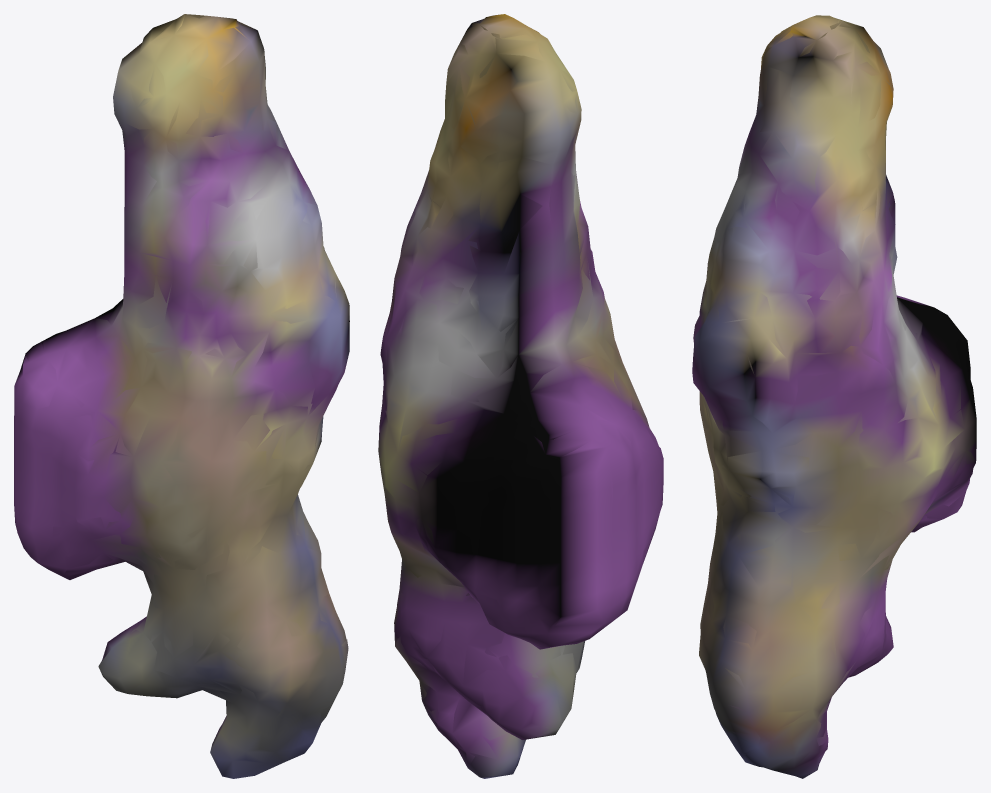
Rendered from yuri_engineer.glb.
The picture shows the model from 3 angles, left to right: view 1: azimuth 30°, elevation 25°; view 2: azimuth 150°, elevation 25°; view 3: azimuth 270°, elevation 25°; orthographic projection. The views are drawn at different scales.
Parts seen in each view (by area): view 1: yuri_engineer; view 2: yuri_engineer; view 3: yuri_engineer.
Part boxes in pixels (left/top/right/bottom): yuri_engineer: left=14, top=14, right=349, bottom=778; yuri_engineer: left=378, top=14, right=663, bottom=778; yuri_engineer: left=692, top=15, right=976, bottom=778.
Size of the model in its own units: 0.8274 by 2.22 by 0.7728.
